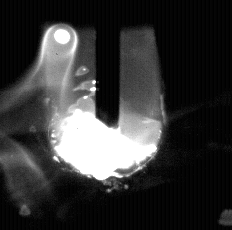arame: (95, 0, 122, 129)
poca: (51, 0, 147, 230)
